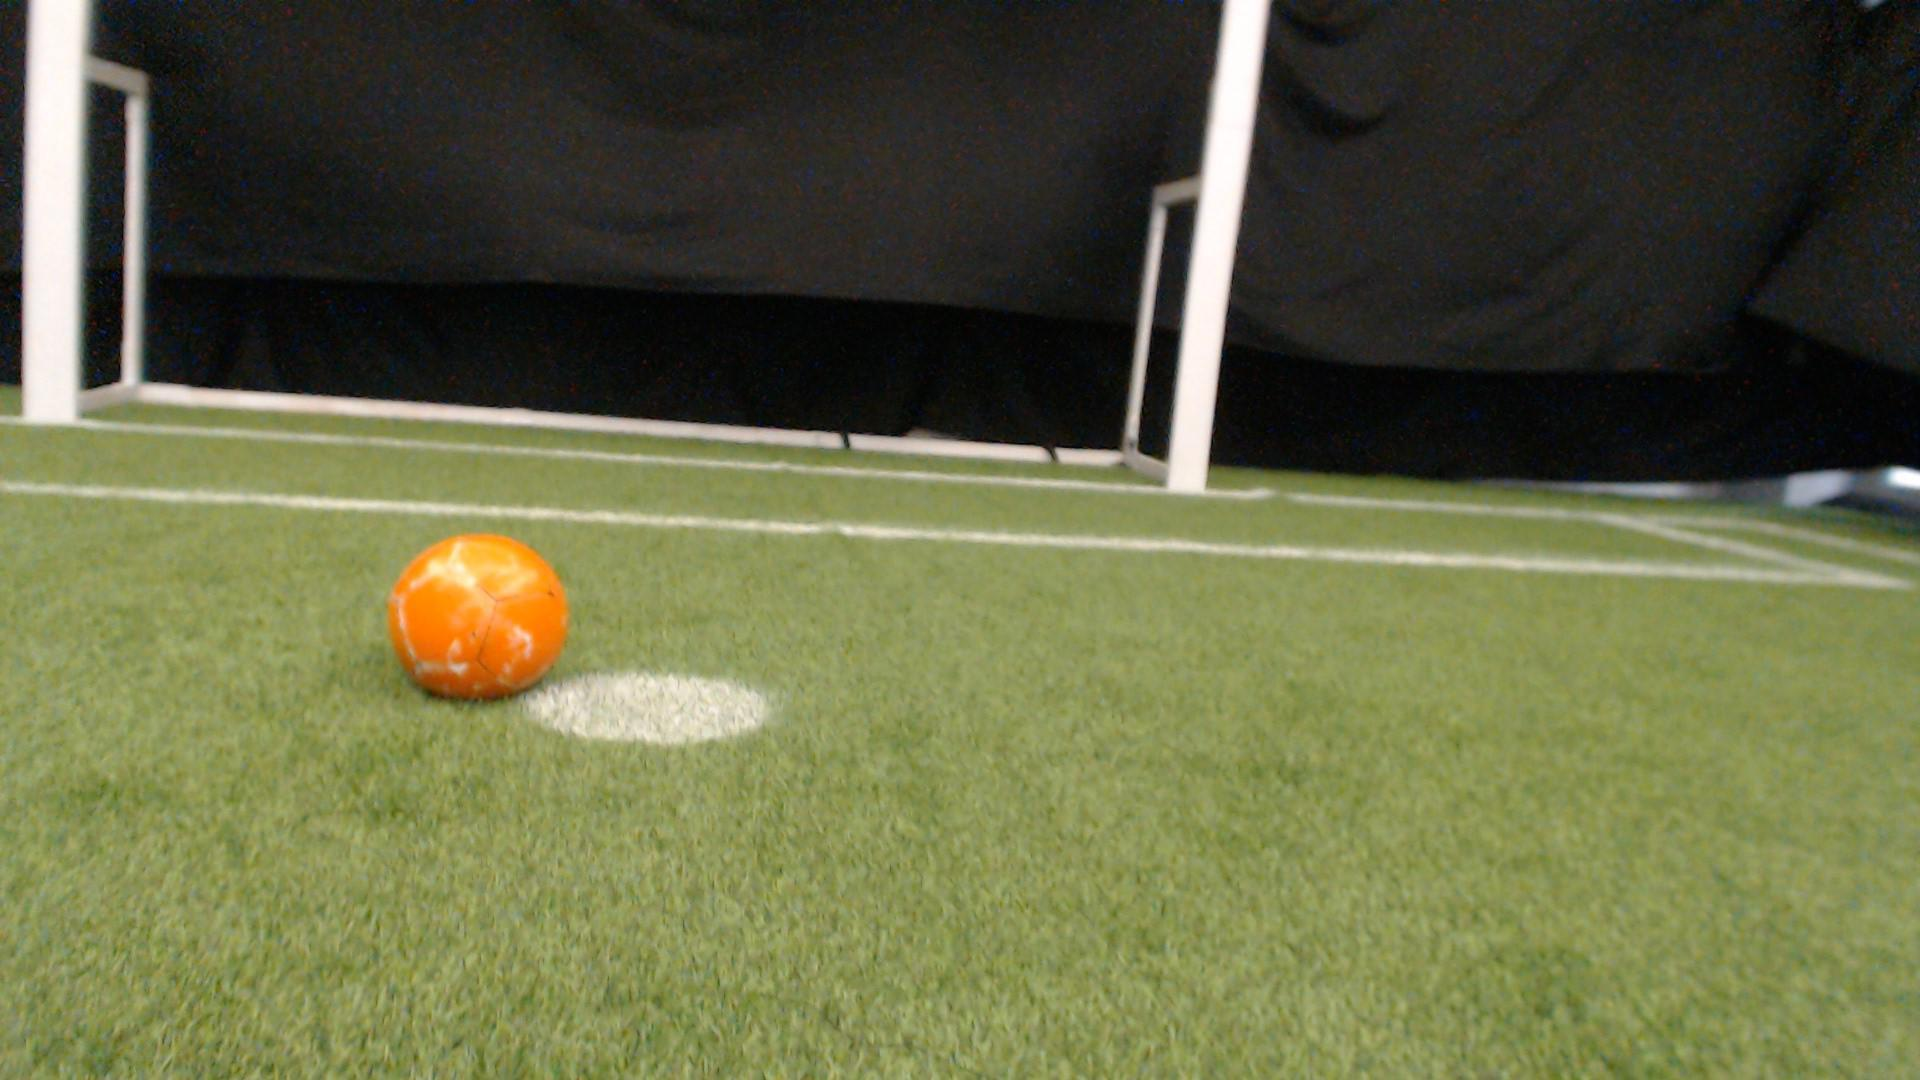bola: (372, 522, 588, 721)
